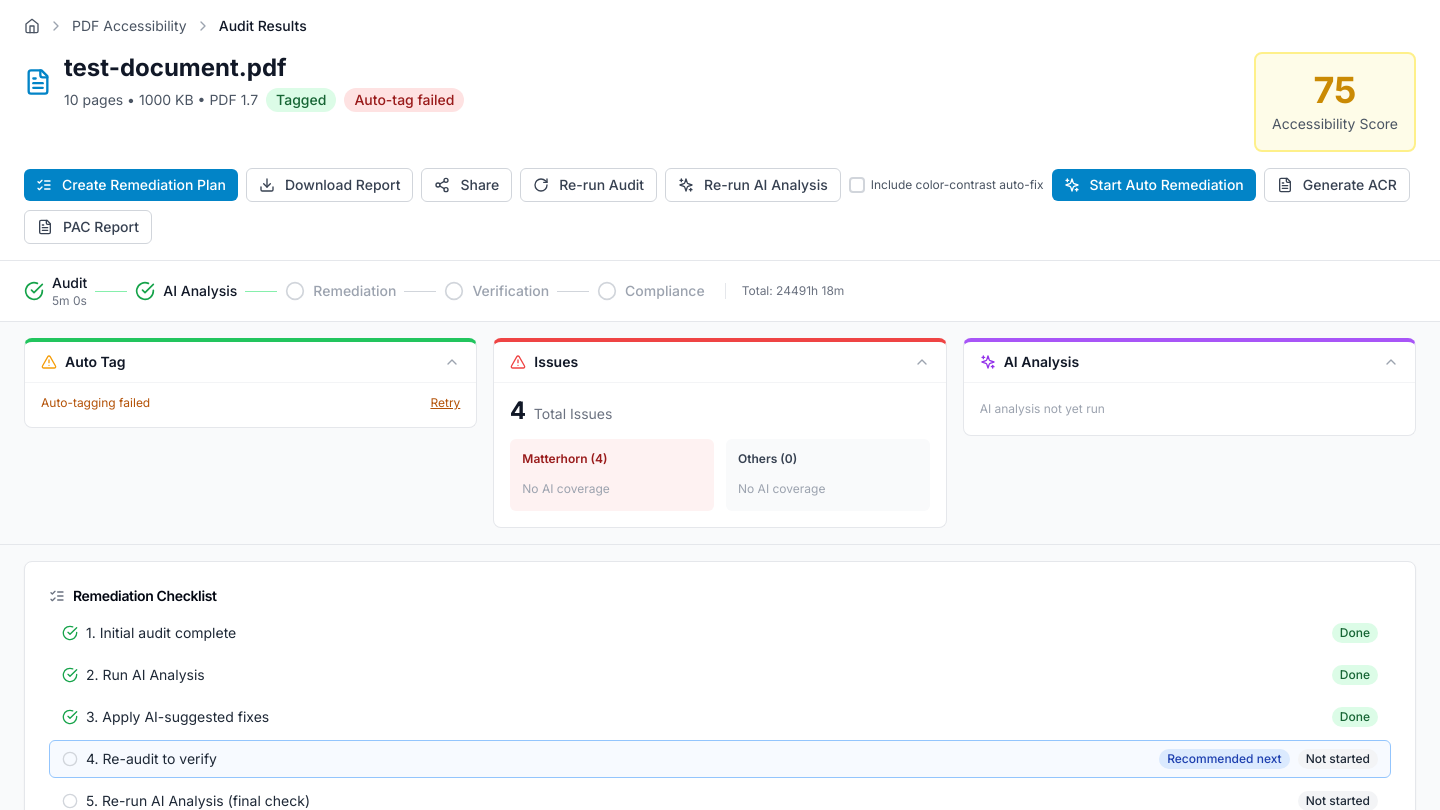
Scenario: PdfAuditResultsPage › Auto-tag status sync › retry still polls the status endpoint and updates the header badge on completion
Expected: the text "Auto-tag failed" is shown, x1=344 y1=88 x2=464 y2=112
Click the button "Retry": (445, 403) x1=430 y1=395 x2=460 y2=411
Wait 10000 ms
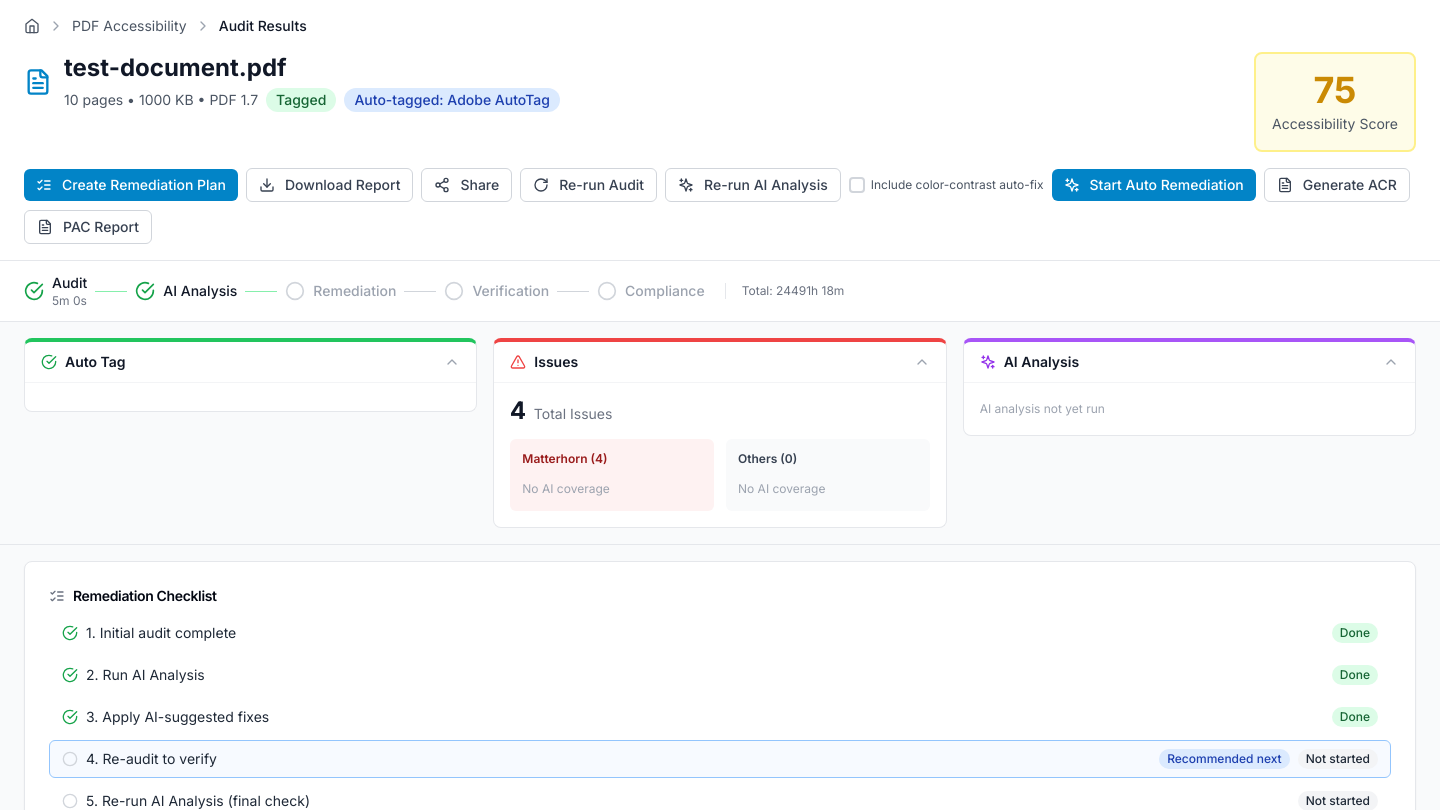
Expected: the text "Auto-tagged: Adobe AutoTag" is shown, x1=344 y1=88 x2=560 y2=112
